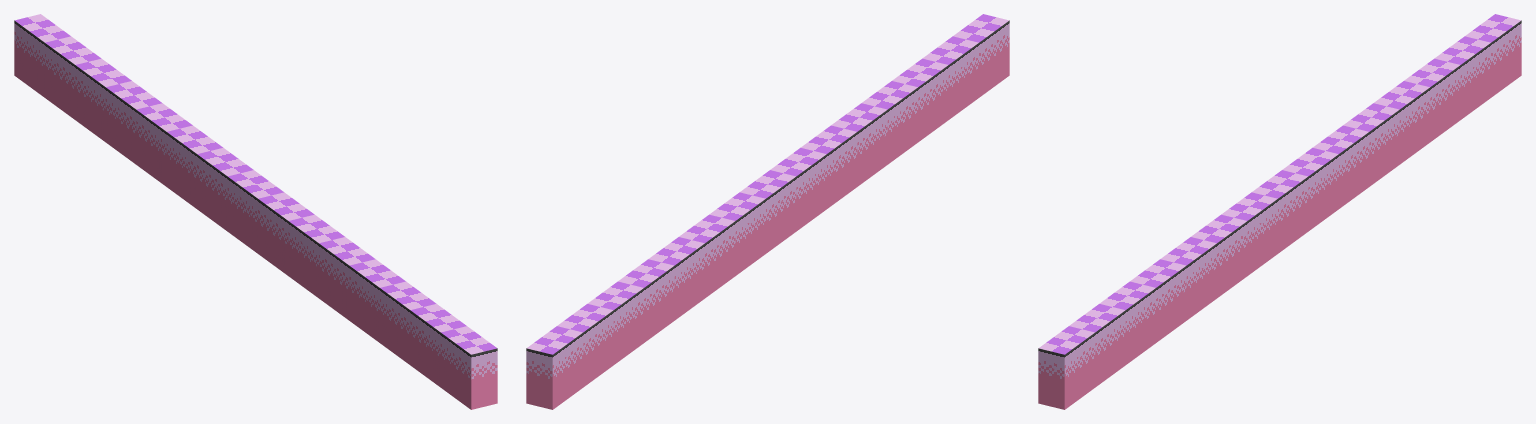
The model's file is rotating_slab.glb.
3 renders of one model, left to right at view 1: azimuth 30°, elevation 25°; view 2: azimuth 150°, elevation 25°; view 3: azimuth 330°, elevation 25°, orthographic.
Parts seen in each view (by area): view 1: Halfcube; view 2: Halfcube; view 3: Halfcube.
Boxes of the visible parts, x1,y1,x2,y2 form: Halfcube: [14, 14, 497, 409]; Halfcube: [526, 14, 1009, 409]; Halfcube: [1038, 14, 1521, 409].
Bounding box in the file's own units: 1 × 2 × 30.
Materials: 1 (1 with a texture image).
